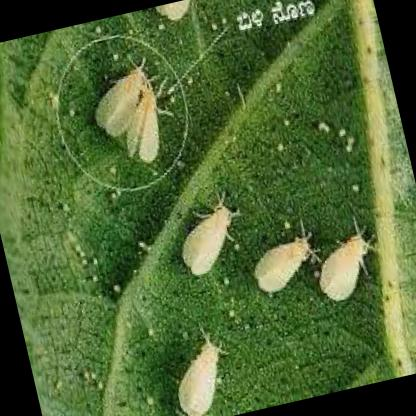whitefly: (182, 204, 229, 274), (256, 240, 312, 294), (320, 237, 360, 301), (126, 90, 159, 165)
